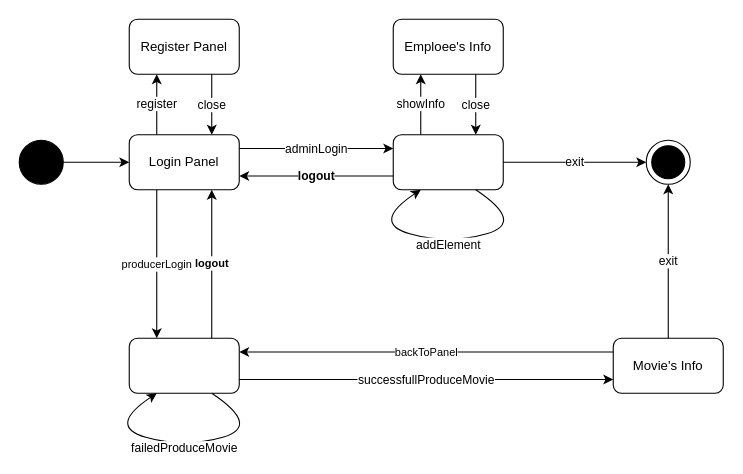
This 743x474 diagram has some shape labels left out. Here are the shapes that lost their labels. From the top down, the centre of each, then its label:
pixel 447 162: Admin Panel
pixel 183 365: Producer Panel
